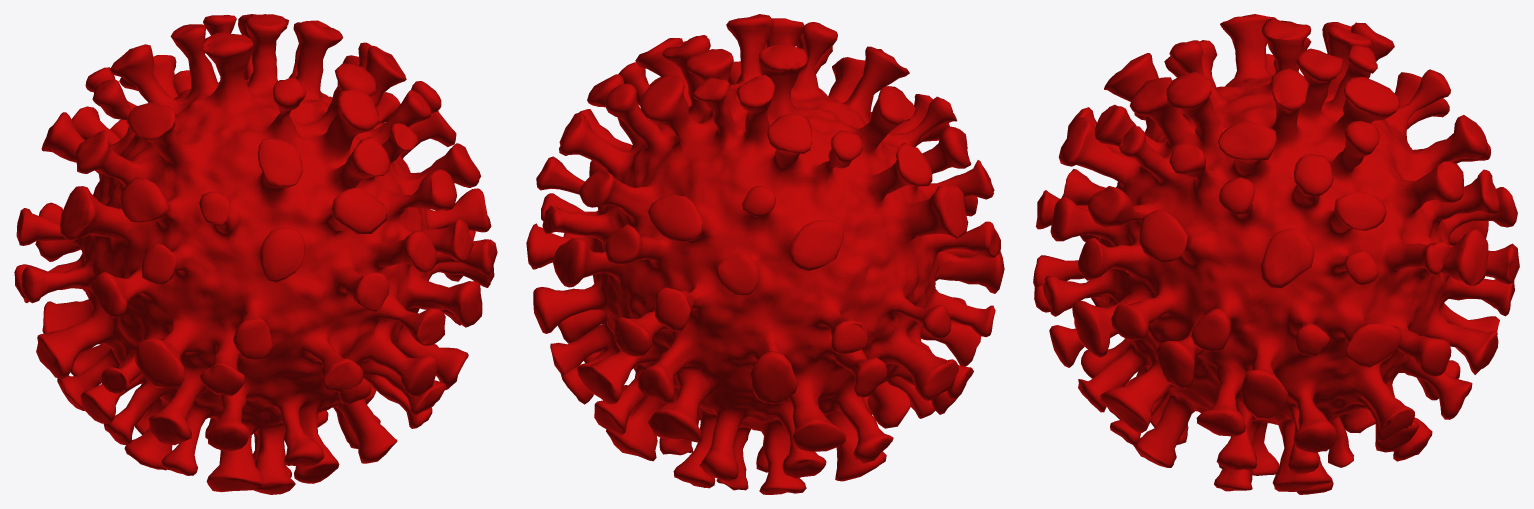
Rendered from Red Virus.fbx.
3 renders of one model, left to right at view 1: azimuth 30°, elevation 25°; view 2: azimuth 150°, elevation 25°; view 3: azimuth 270°, elevation 25°, orthographic.
Parts seen in each view (by area): view 1: Icosphere; view 2: Icosphere; view 3: Icosphere.
Boxes of the visible parts, left/top/right/bottom form: Icosphere: left=14, top=14, right=497, bottom=494; Icosphere: left=526, top=14, right=1004, bottom=494; Icosphere: left=1033, top=14, right=1519, bottom=494.
Bounding box in the file's own units: 12.95 × 12.95 × 13.
